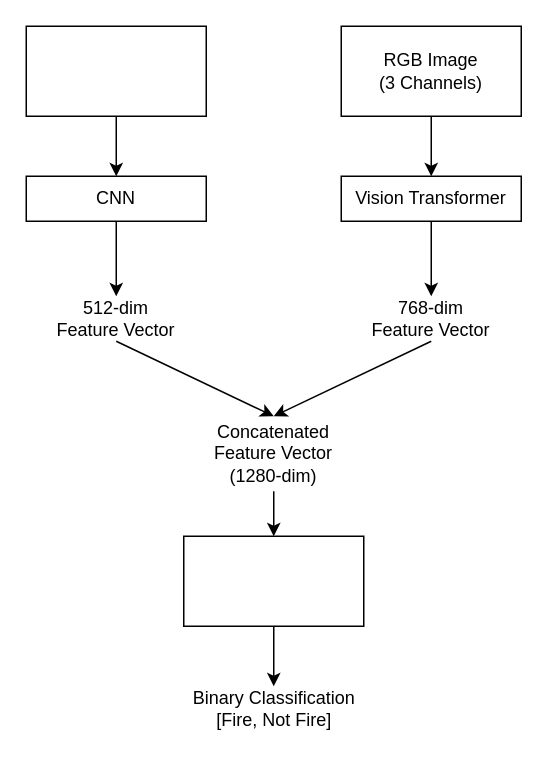
This 548x758 diagram has some shape labels left out. Here are the shapes that lost their labels. From the top down, the centre of each, then its label:
At point (115, 70): "Thermal Image (Single Channel)".
At point (273, 580): "Fusion Classifier (Neural Network)".
